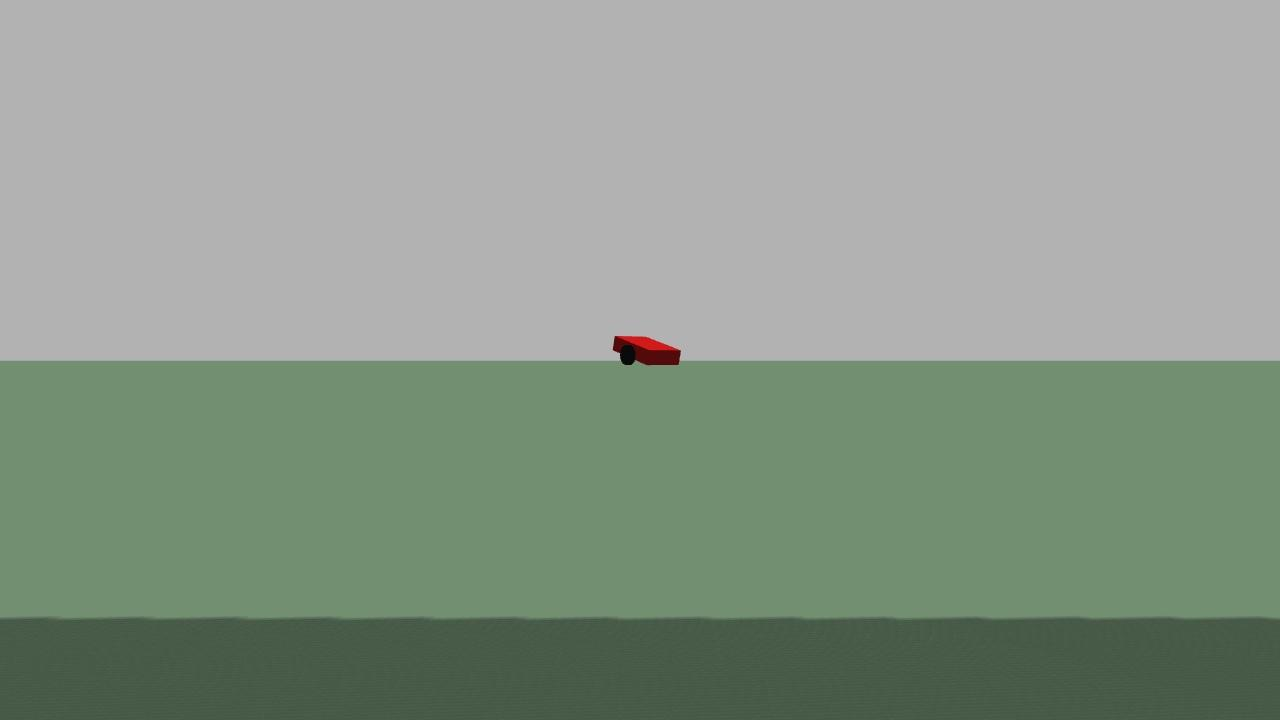ground_vehicle: (612, 321, 689, 379)
